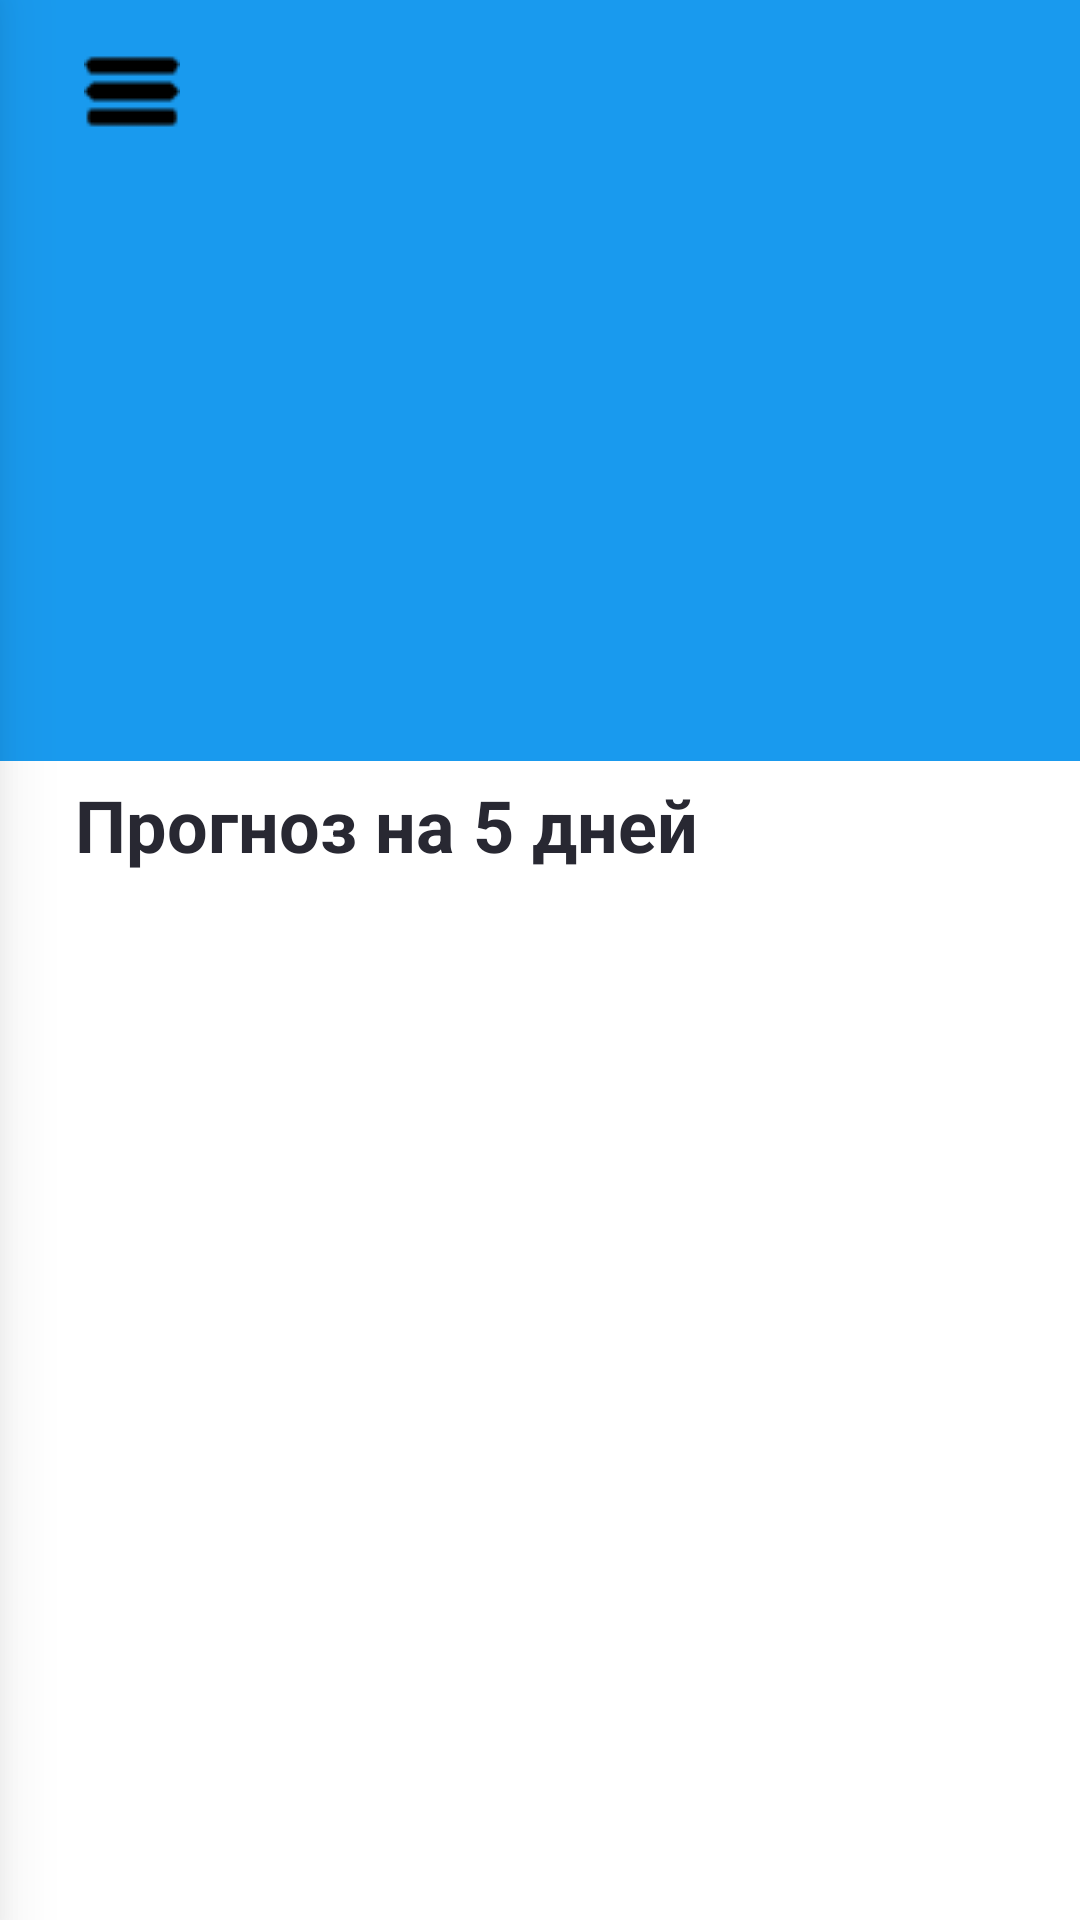

Icon click points for this 1080w x 1920h phone screenshot, format (x,y):
menu: (132,91)
